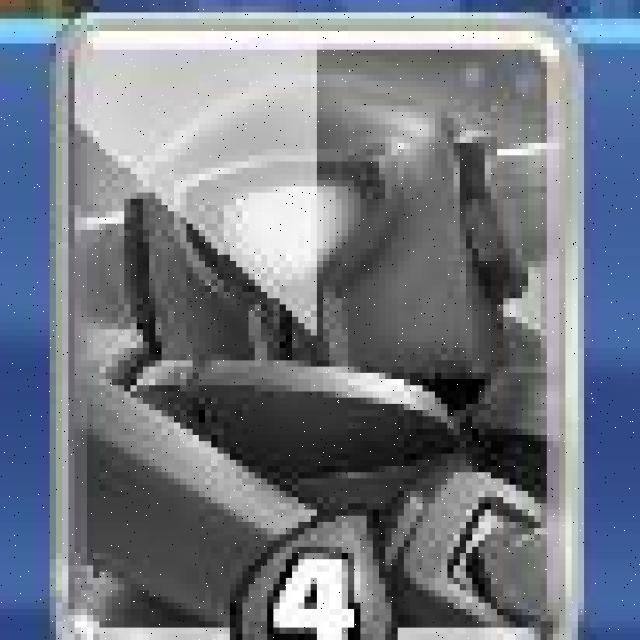Mini_Pekka: (48, 15, 576, 635)
